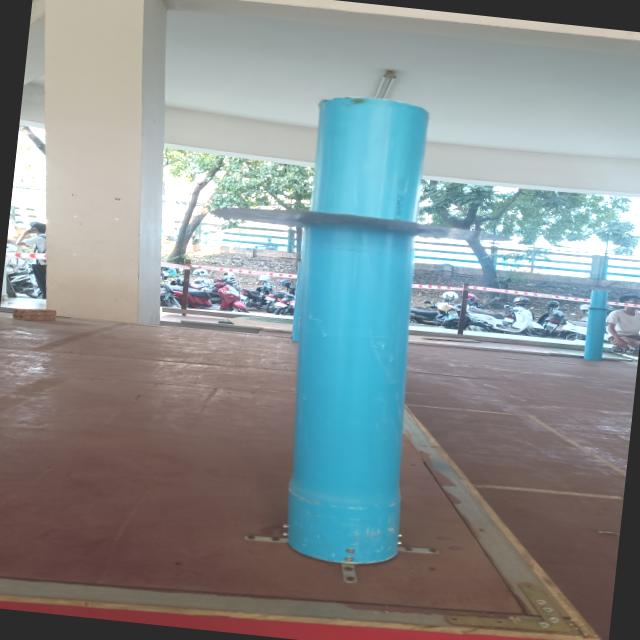pole: (195, 77, 523, 455)
